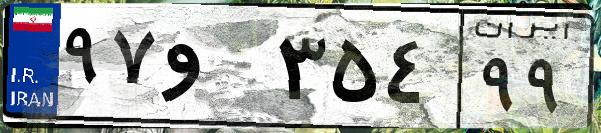3: (270, 28, 330, 110)
4: (385, 28, 445, 110)
5: (330, 28, 385, 110)
7: (110, 28, 158, 98)
9: (57, 26, 110, 100), (475, 38, 525, 113), (525, 38, 570, 115)
و: (158, 20, 270, 120)
